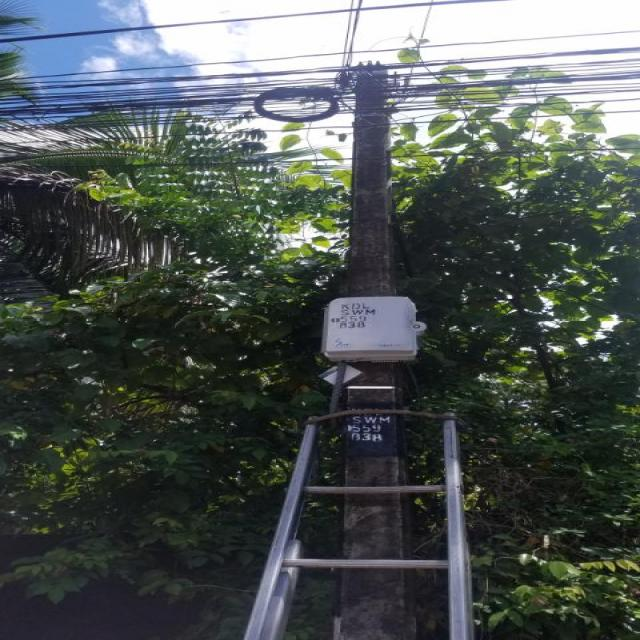light_pole: (310, 54, 430, 640)
